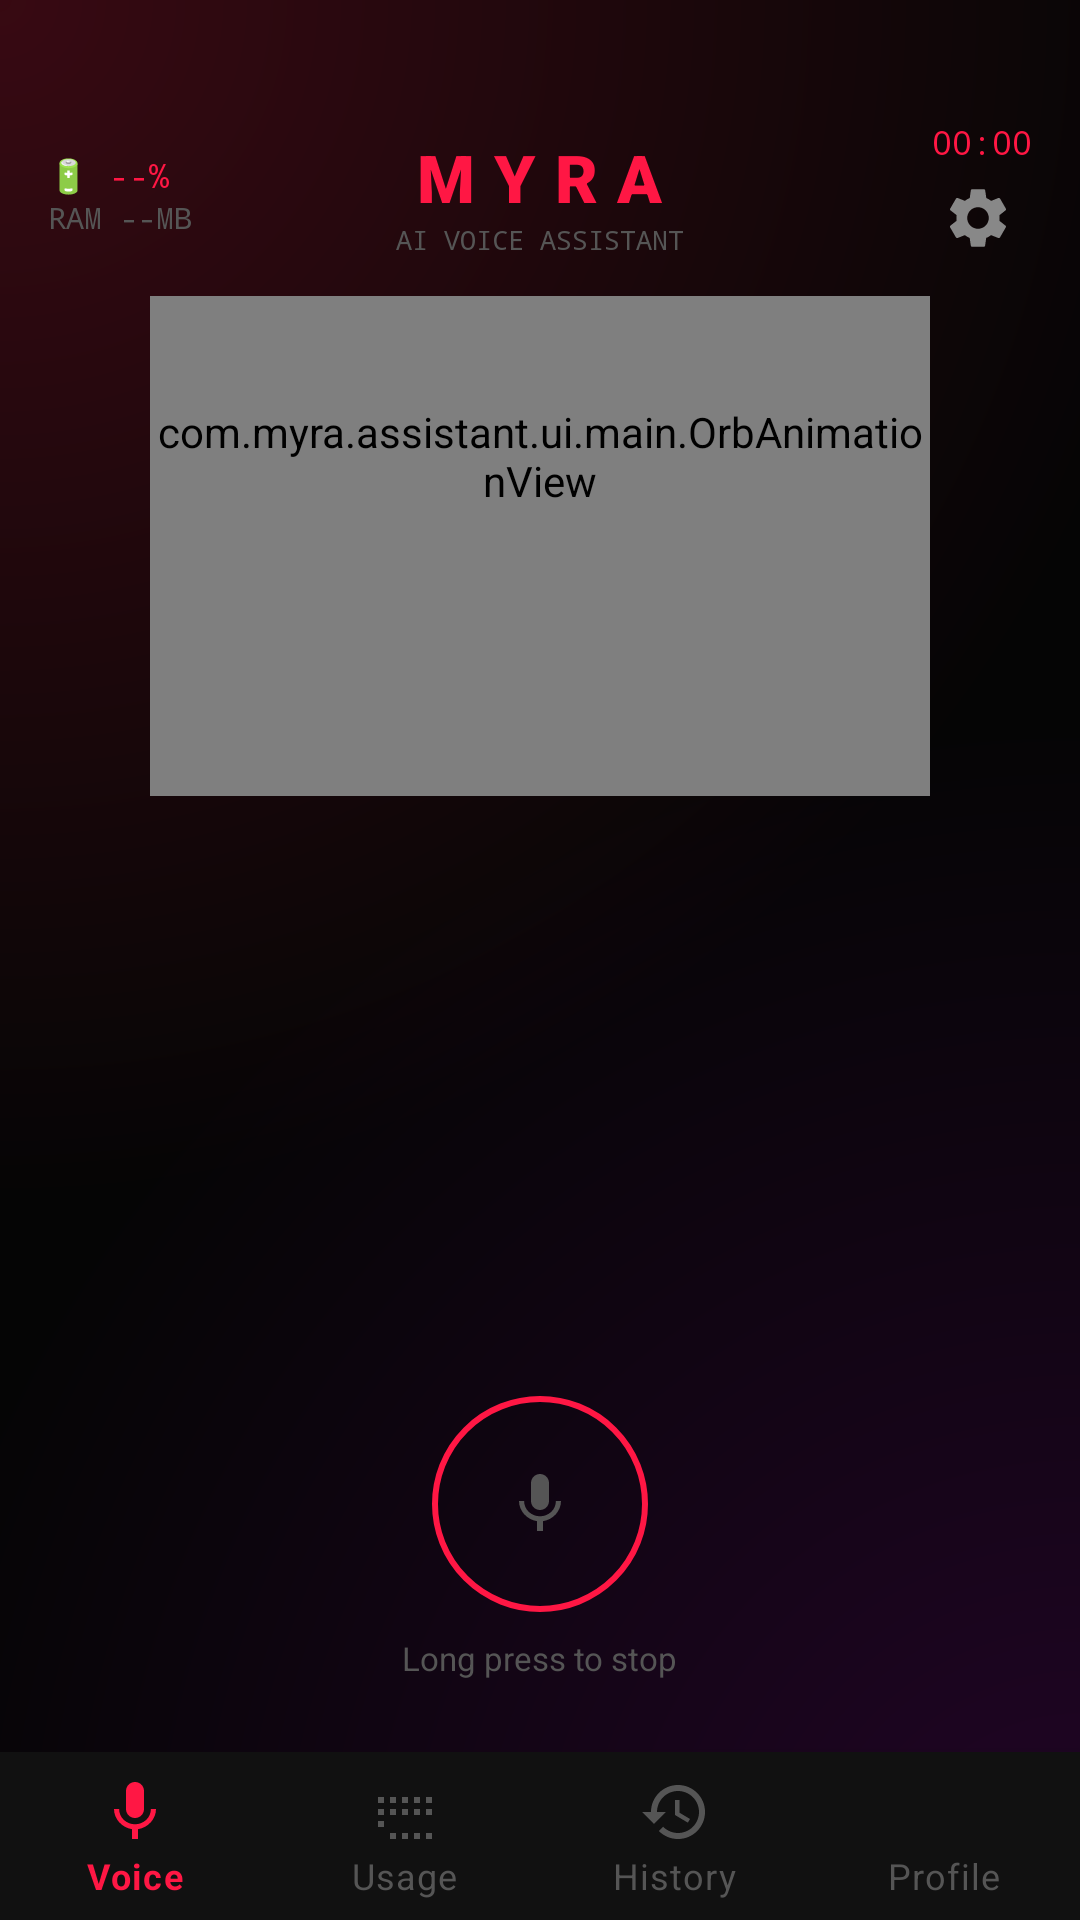

Icon click points for this 1080w x 1920h phone screenshot, format (x=x, y=y):
Microphone: (x=540, y=1504)
Settings: (x=978, y=218)
